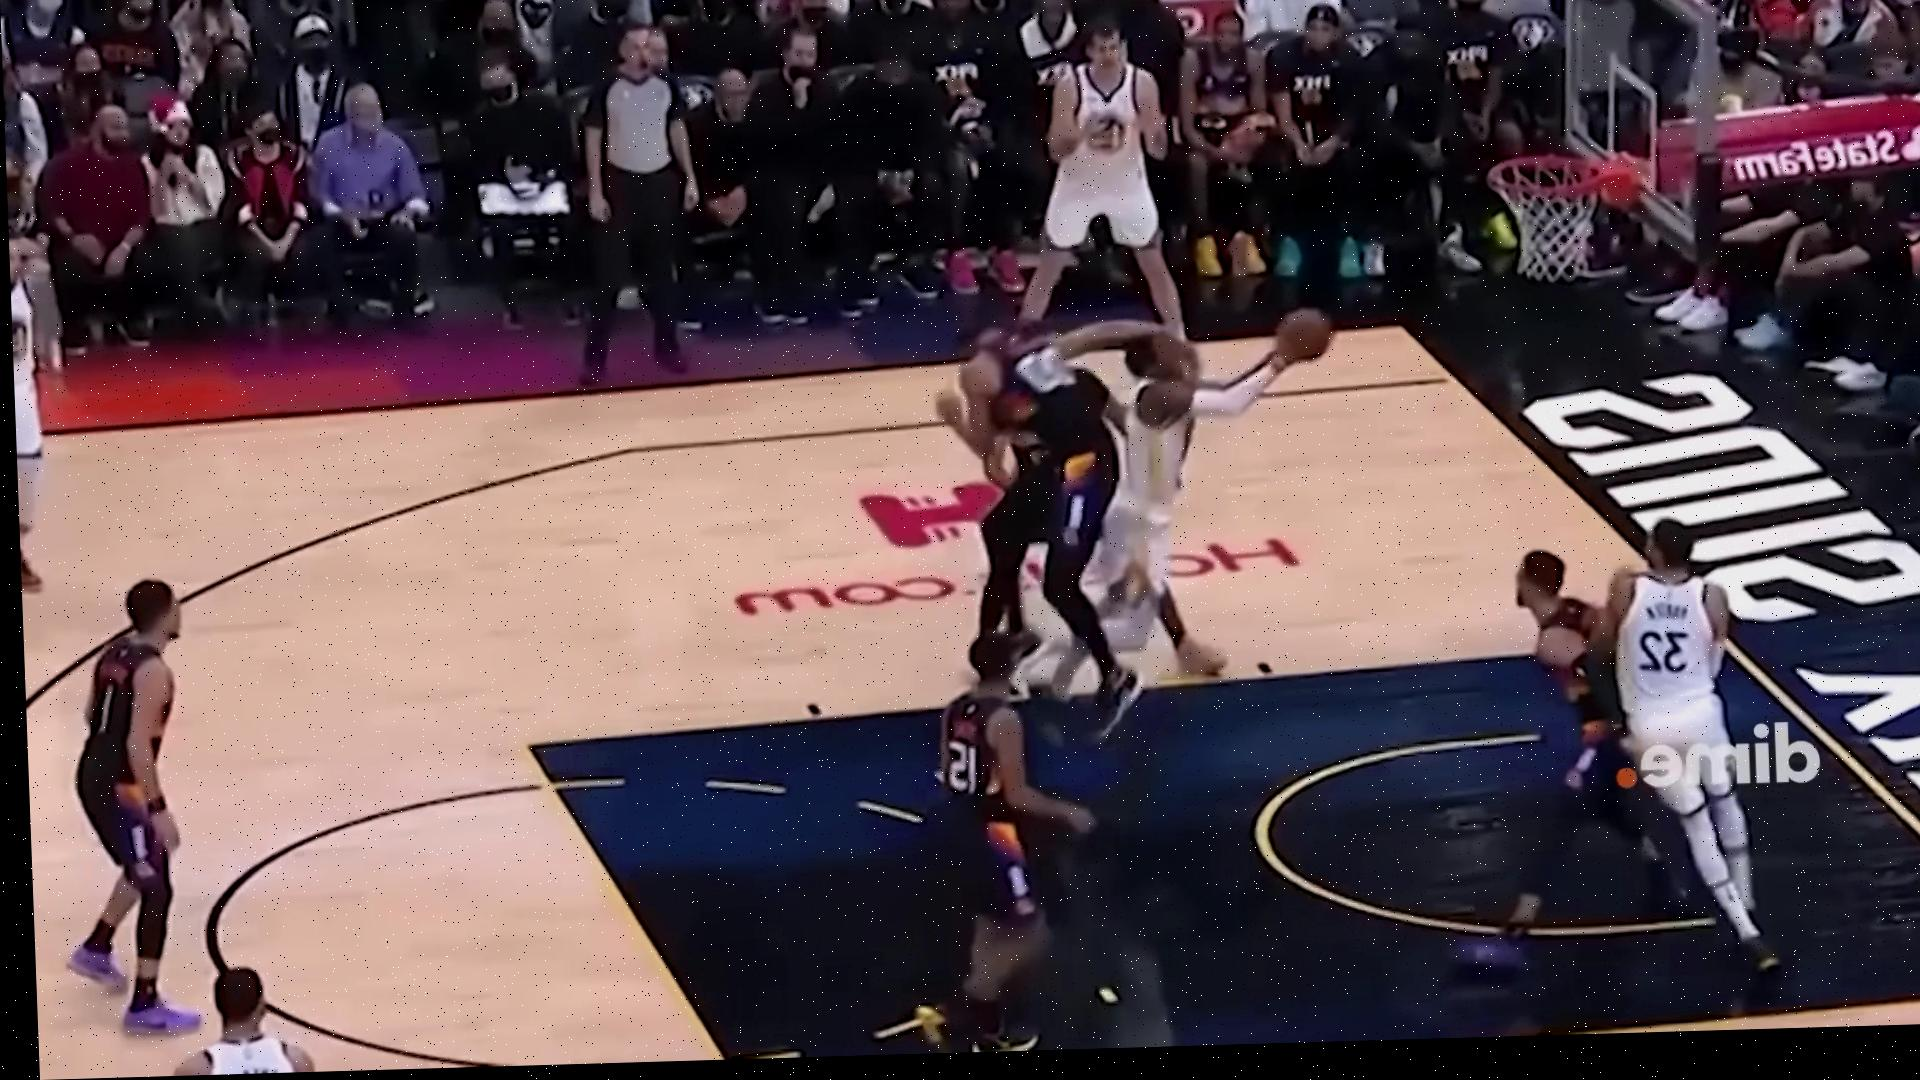foul: (956, 285, 1278, 741)
